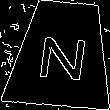N_N: (33, 27, 91, 81)
